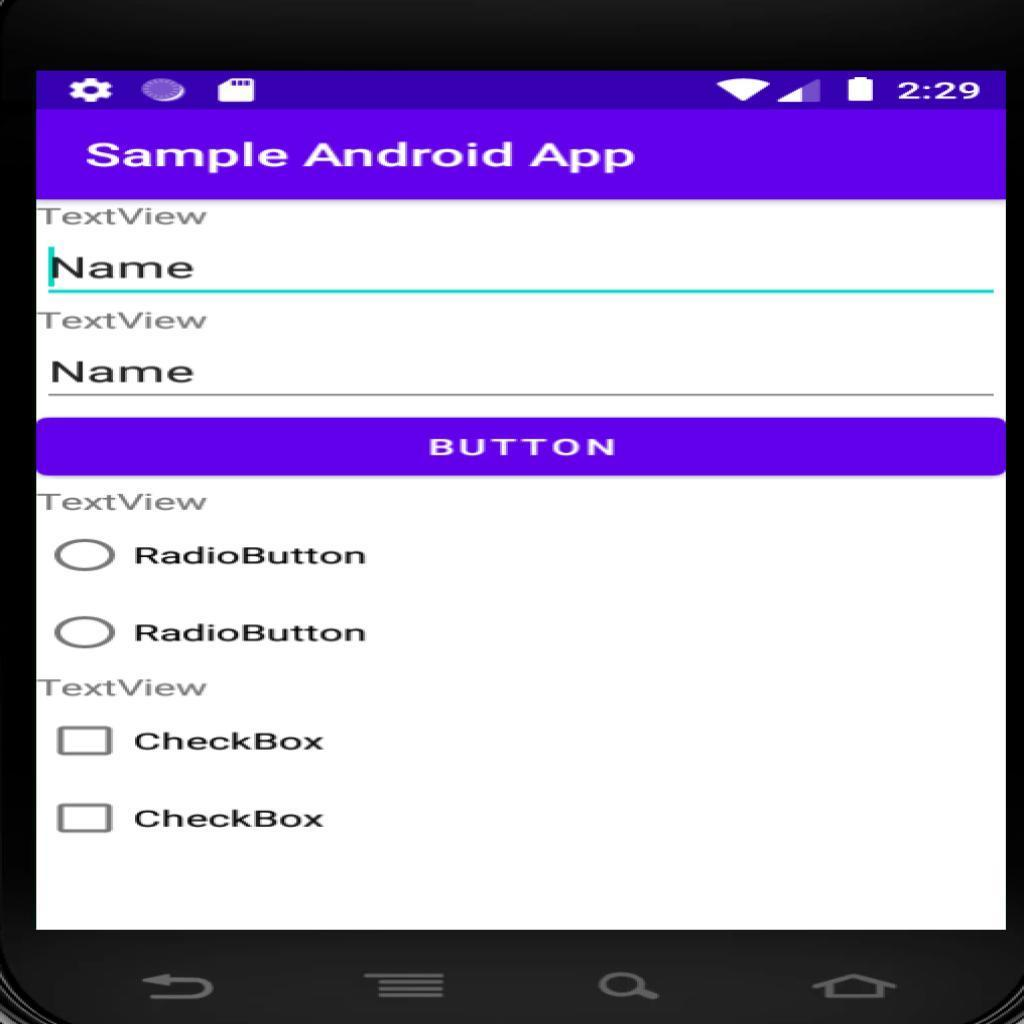button: (38, 417, 1005, 478)
checkbox: (60, 727, 112, 757), (60, 806, 112, 835)
label: (132, 615, 366, 650), (136, 539, 370, 572), (135, 724, 327, 763), (36, 202, 219, 240), (40, 485, 216, 522), (137, 804, 327, 838), (39, 674, 209, 706), (40, 308, 206, 339)
radio: (56, 539, 120, 576), (57, 614, 114, 653)
